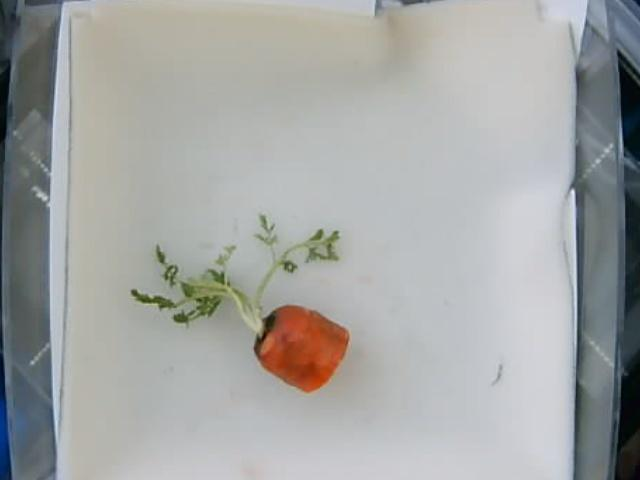Carrot: (131, 215, 348, 394)
